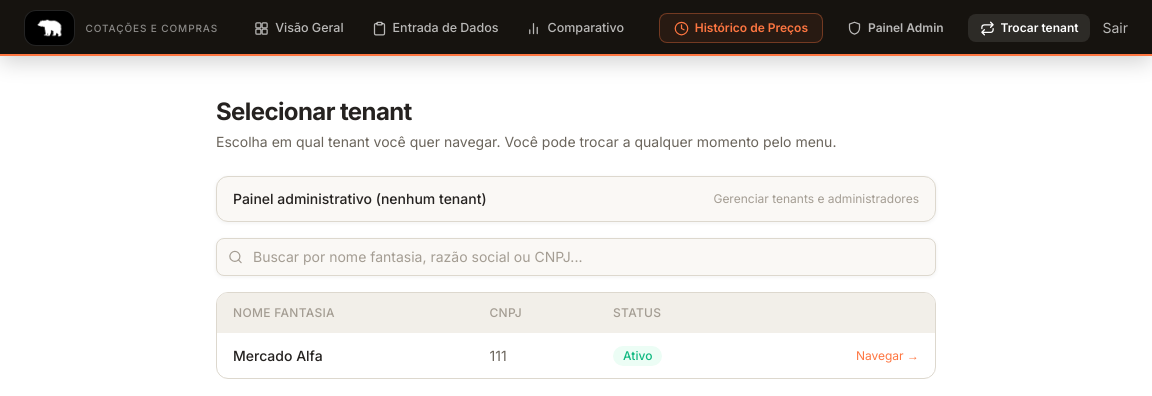
Test: SelecionarTenantPage — selecionar um tenant (clique de linha) › mostra 'Entrando...' na linha em voo enquanto a seleção não resolveu
This screenshot has width=1152, height=396.
Expected: the text "Mercado Alfa" is shown, [217, 333, 474, 378]
Click the text "Mercado Alfa": (278, 355) [217, 333, 935, 378]
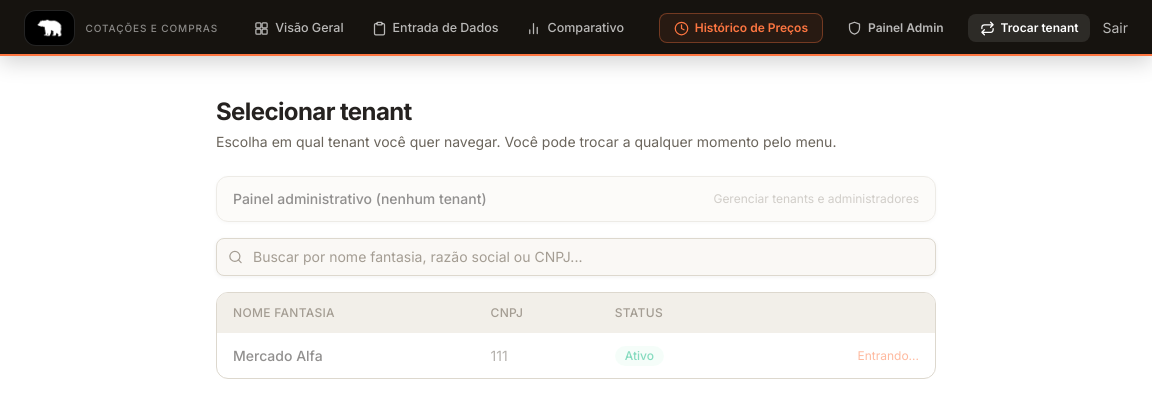
Expected: the text "Entrando..." is shown, [755, 333, 935, 378]
